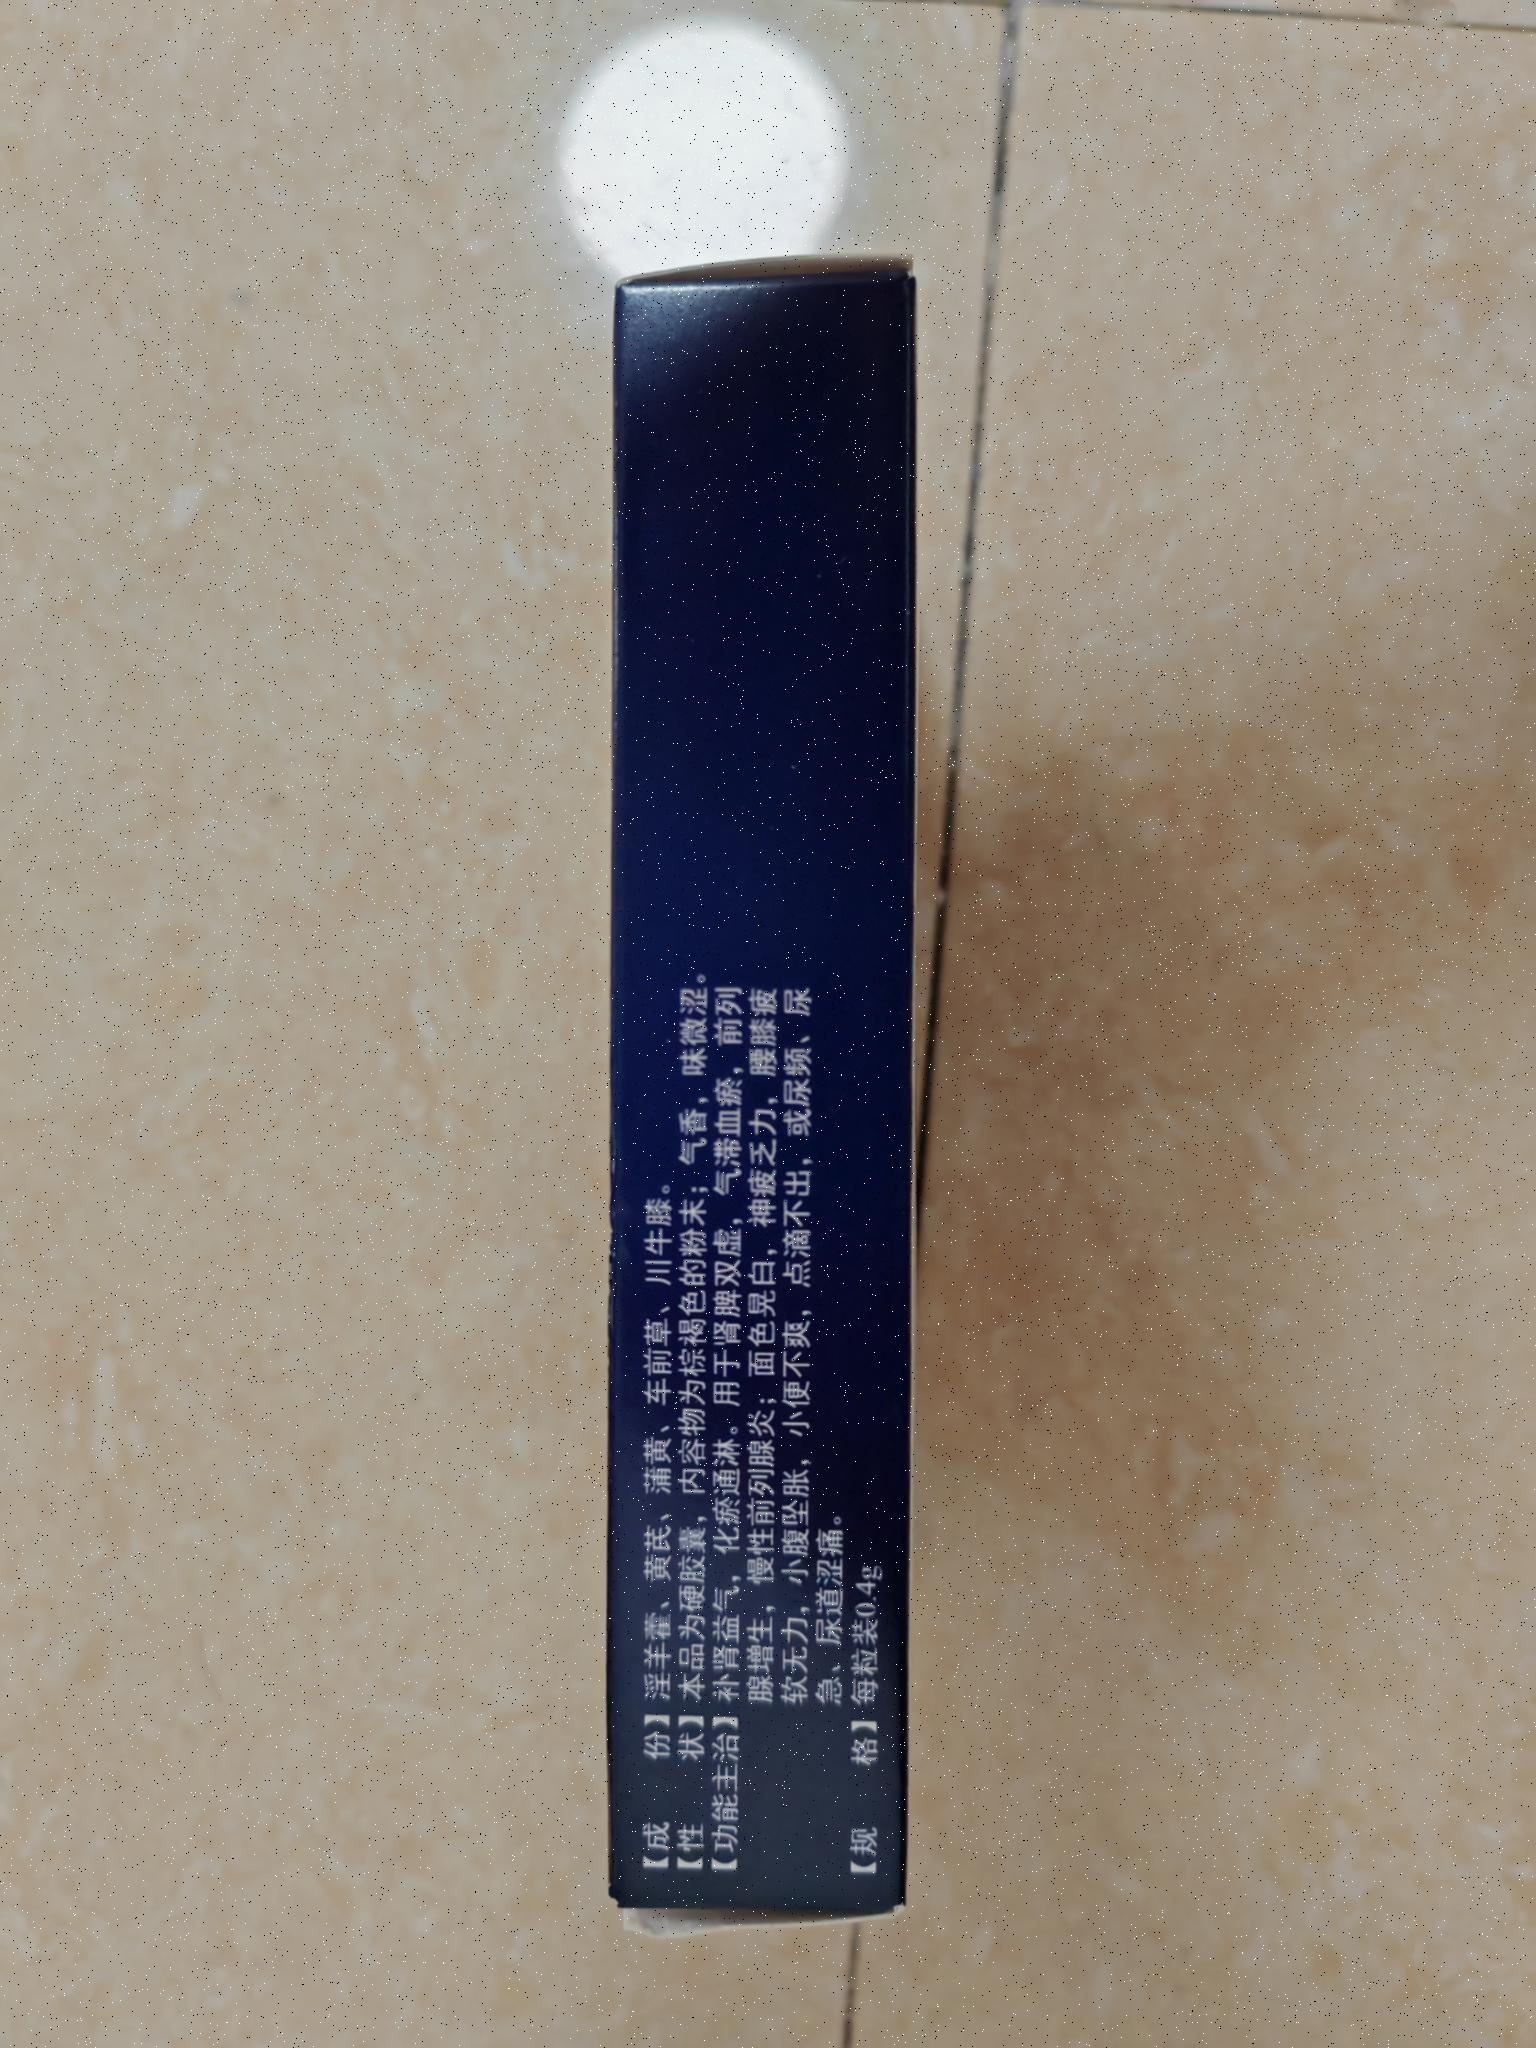Medicine2: (87, 564, 1536, 963)
